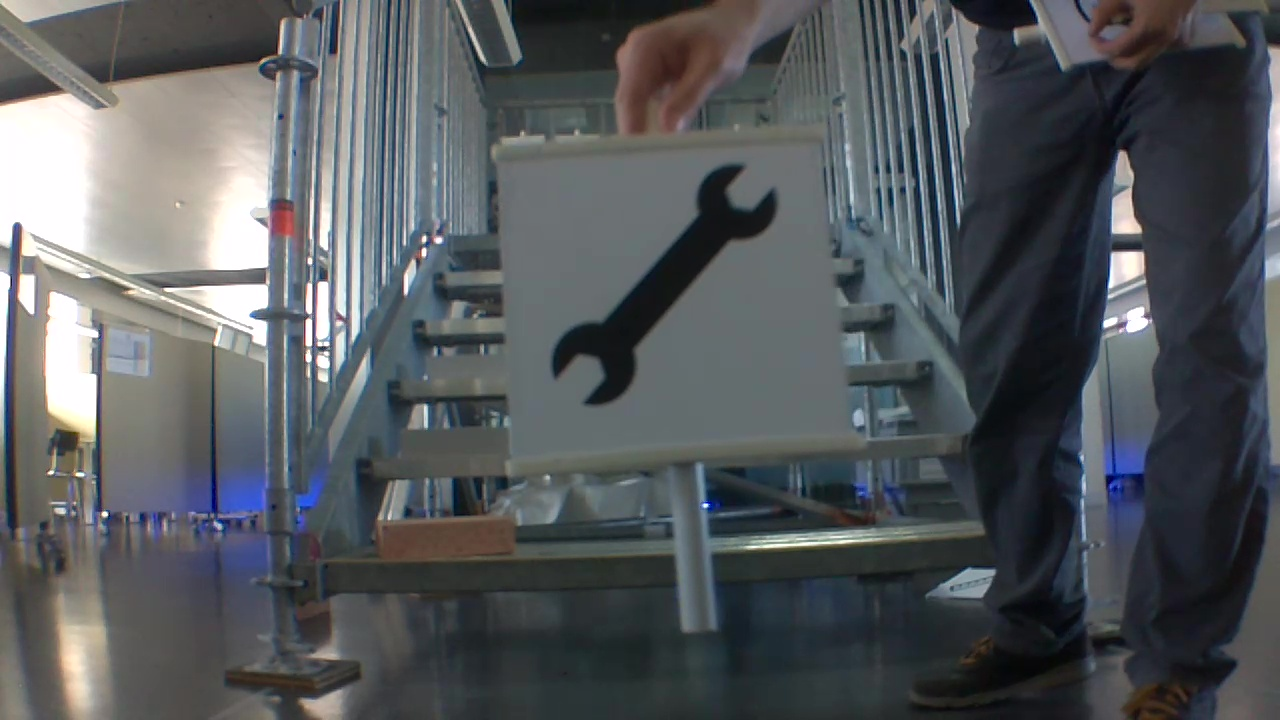brick: (374, 513, 517, 563), (395, 426, 510, 455), (430, 352, 513, 383)
wrench: (550, 158, 781, 411)
